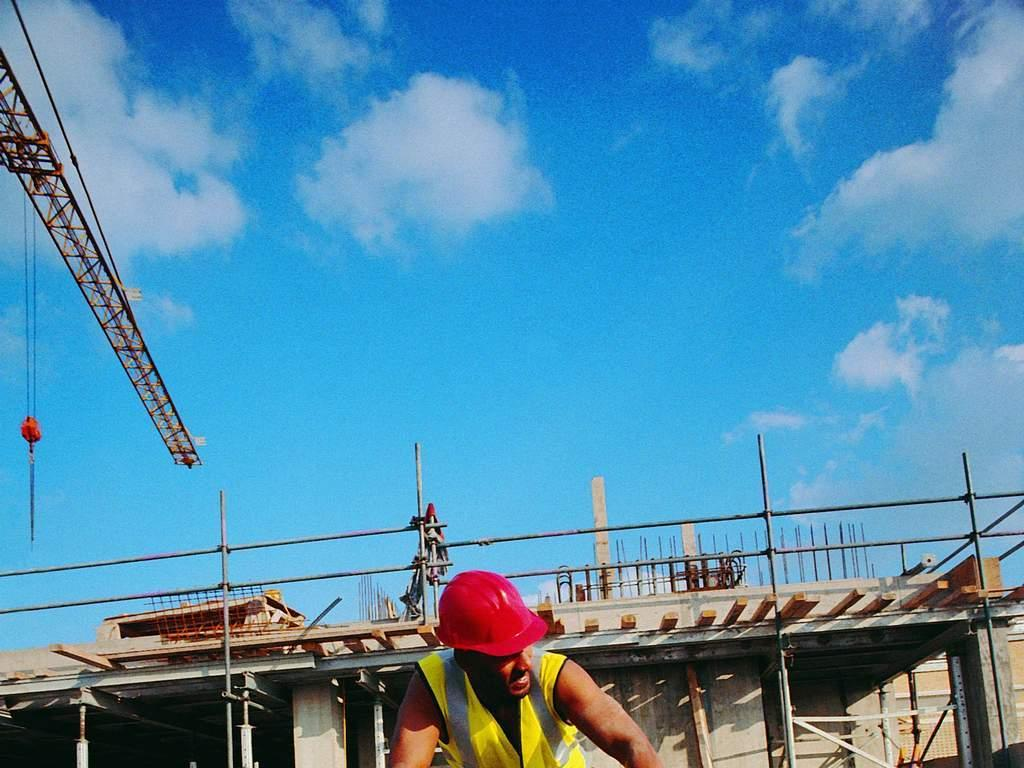helmet: (430, 569, 553, 660)
